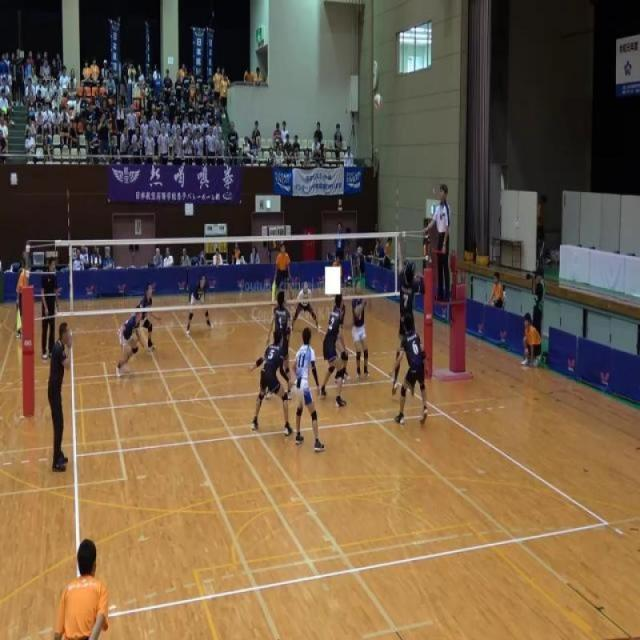volleyball: (373, 91, 383, 110)
